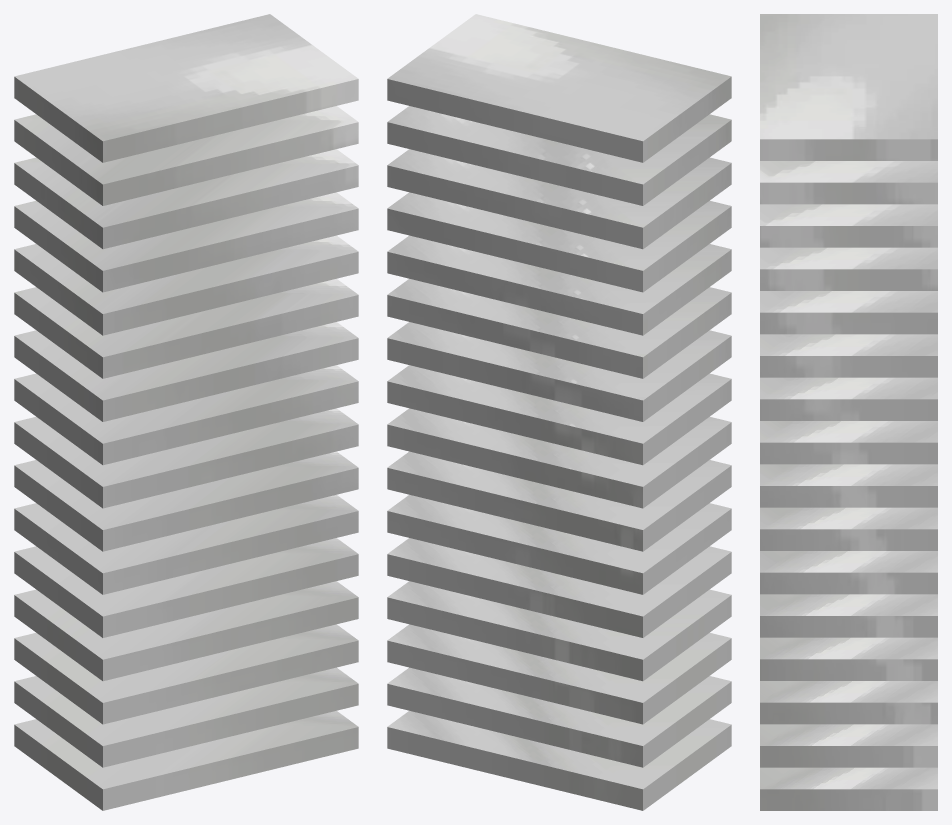
Rendered from ShortRidgeWall.fbx.
3 renders of one model, left to right at view 1: azimuth 30°, elevation 25°; view 2: azimuth 150°, elevation 25°; view 3: azimuth 270°, elevation 25°, orthographic.
Parts seen in each view (by area): view 1: pCube249; view 2: pCube249; view 3: pCube249.
Boxes of the visible parts, bbox=[...] form: pCube249: bbox=[14, 14, 358, 810]; pCube249: bbox=[387, 14, 731, 810]; pCube249: bbox=[760, 14, 937, 810].
Size of the model in its own units: 250 by 625 by 150.
1 material, 1 textured.
